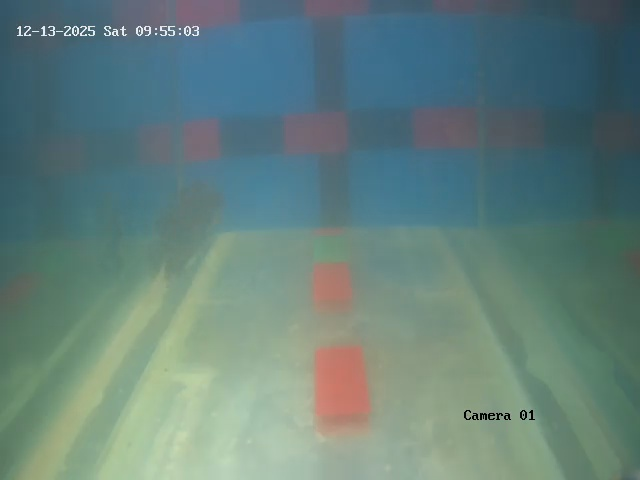fish: (139, 185, 233, 281)
